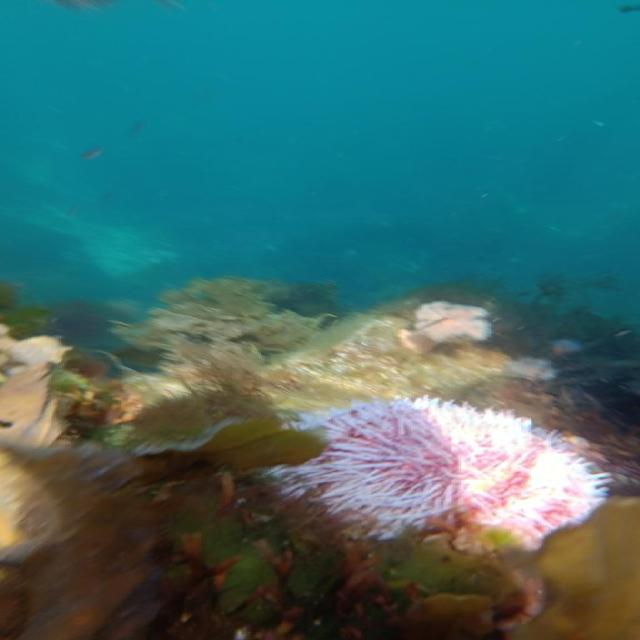Deniz Kestanesi: (247, 394, 609, 552), (551, 338, 580, 358)
